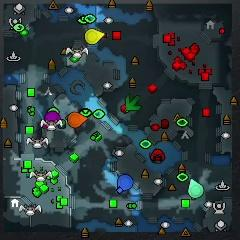p1: (117, 174, 134, 194)
p2: (188, 177, 203, 199)
p3: (42, 112, 61, 128)
p4: (85, 29, 104, 44)
p5: (67, 112, 88, 128)
x4: (125, 94, 142, 111)
